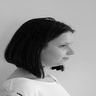ear: (31, 39, 50, 58)
